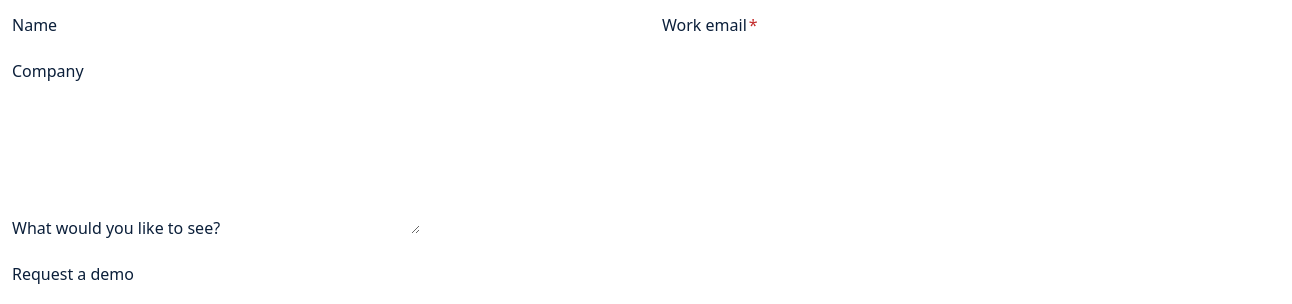
Test: LeadForm › sends the kind and what was typed, leaves out what was not, and thanks the person
The image size is (1292, 304).
Type "Grace Hopper" into the field labelled "Name" at coordinates (173, 25), box 57,12 -> 288,38
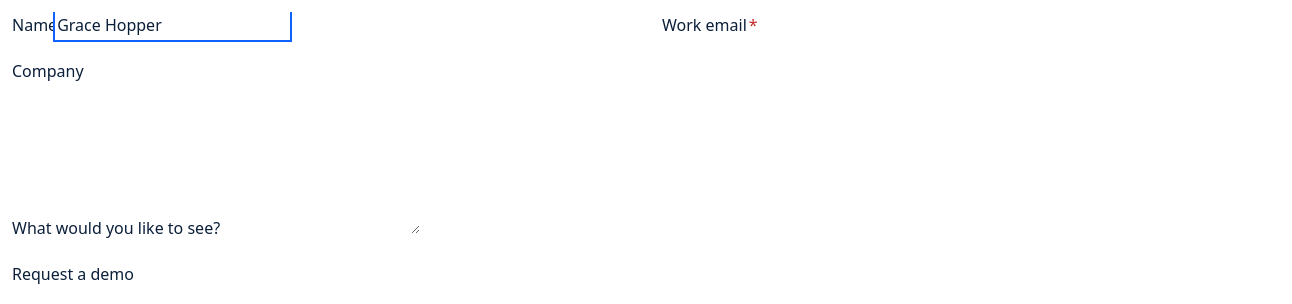
Type "grace@example.com" into the field labelled "Work email*" at coordinates (873, 25), box 758,12 -> 989,38
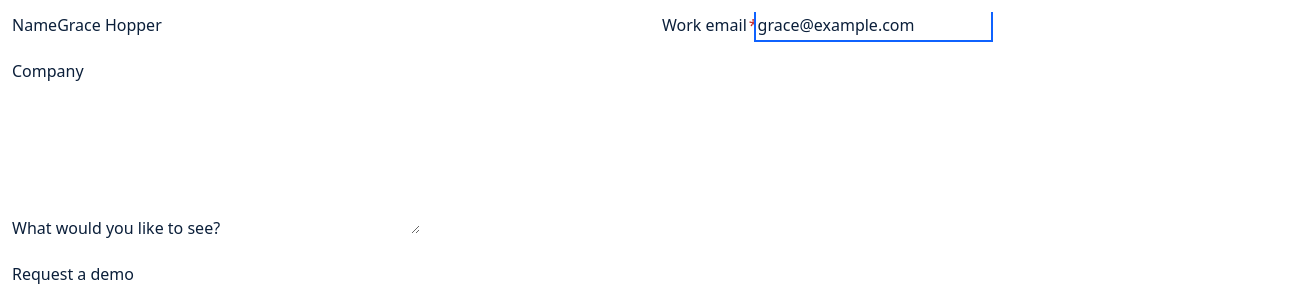
Click the button "Request a demo" at coordinates (73, 274), box 12,261 -> 134,287
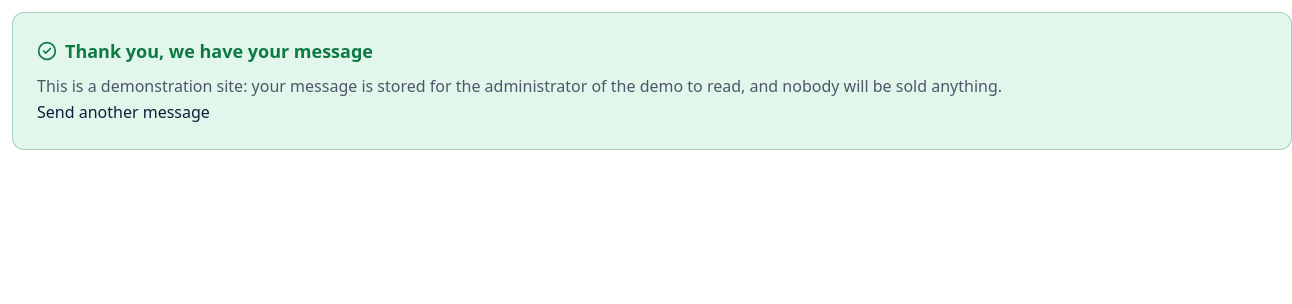
Result: the message shows "Thank you" at 65,39 -> 373,63
